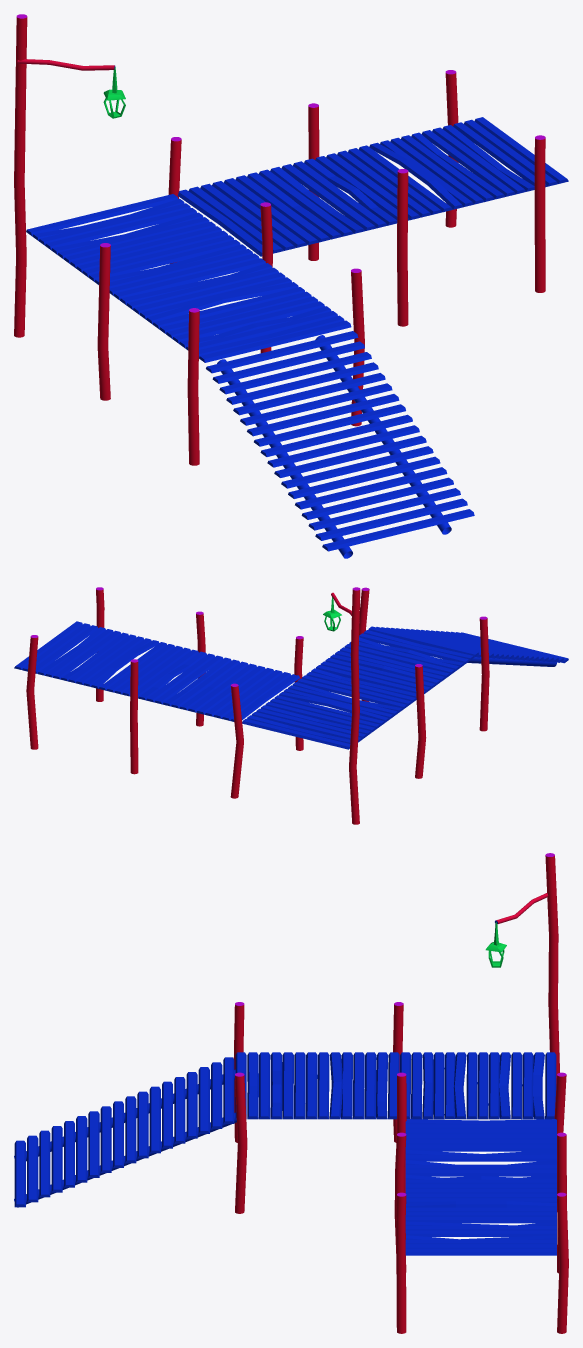
File: ponton.fbx
3 renders of one model, top to bottom at view 1: azimuth 30°, elevation 25°; view 2: azimuth 150°, elevation 25°; view 3: azimuth 270°, elevation 25°, orthographic. The views are drawn at different scales.
Visible parts, largest first — view 1: Cube; view 2: Cube; view 3: Cube.
Part boxes in pixels (box(x1,y1,x2,y2)): Cube: box(14, 14, 568, 558); Cube: box(14, 587, 568, 824); Cube: box(14, 853, 568, 1333).
Size of the model in its own units: 650 by 433 by 733.
